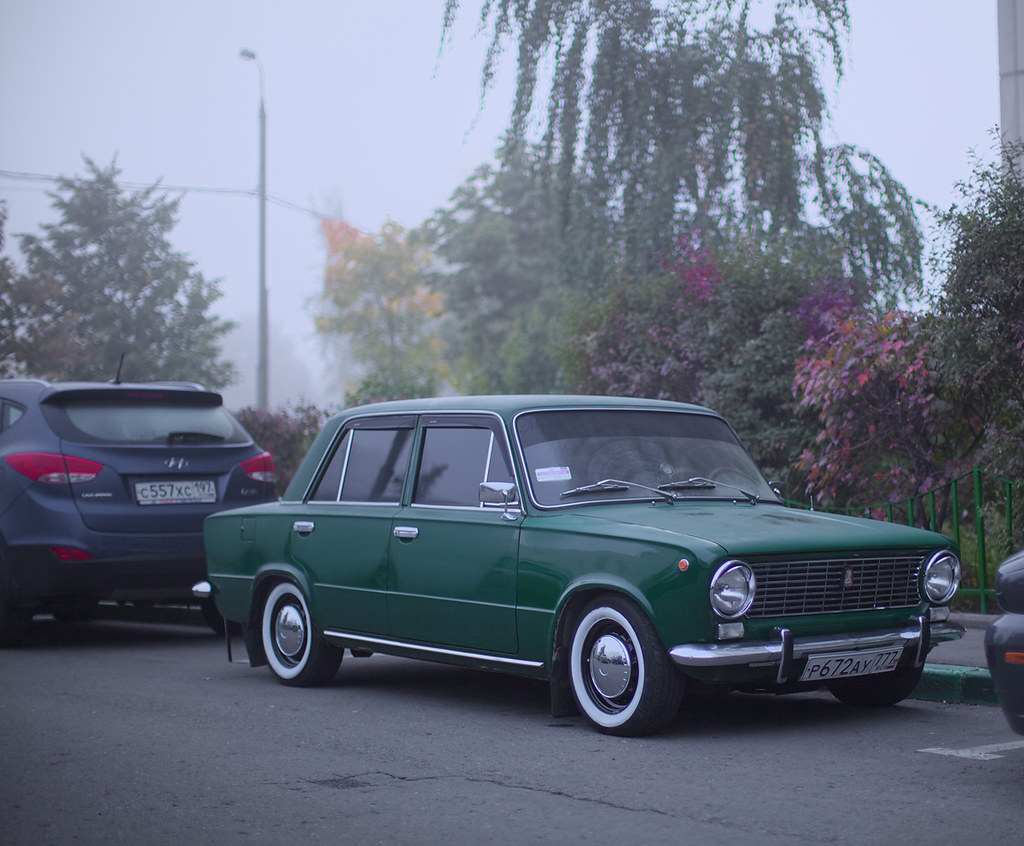car_front: (697, 532, 961, 685)
car_rear: (41, 381, 277, 610)
plate: (801, 647, 904, 681), (134, 478, 217, 502)
